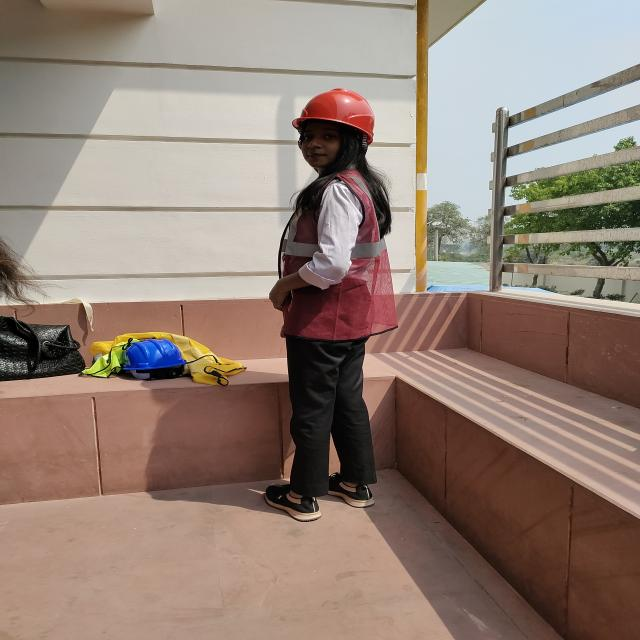safe: (262, 88, 399, 520)
